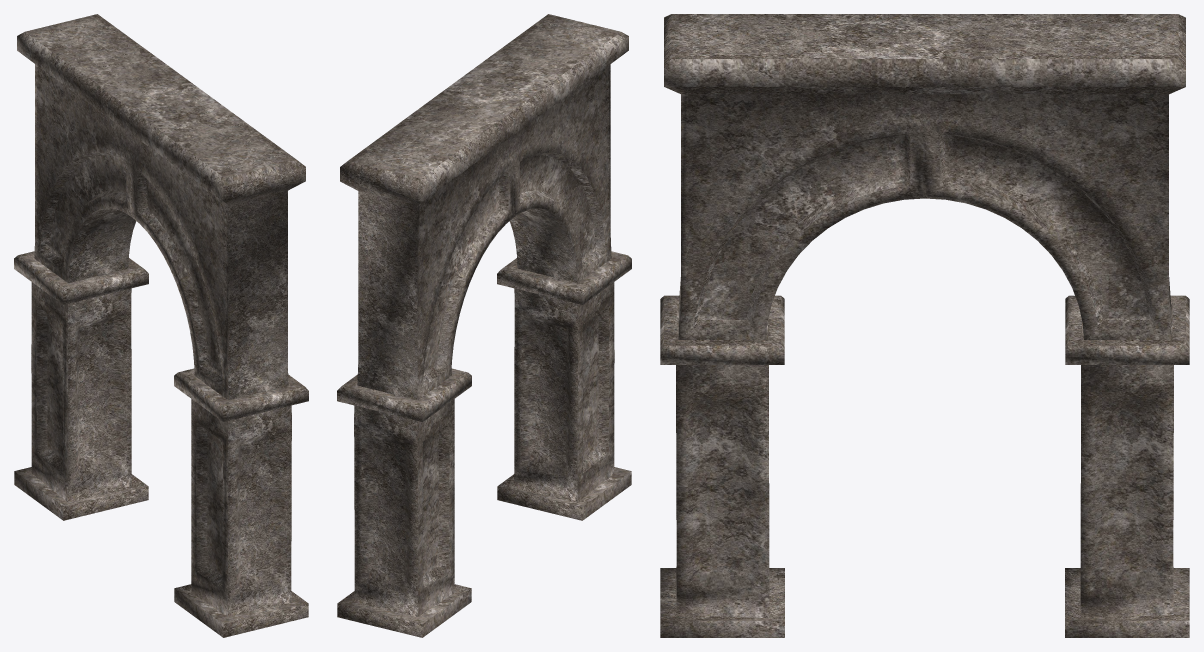
File: Entrance_stone.fbx
The picture shows the model from 3 angles, left to right: view 1: azimuth 30°, elevation 25°; view 2: azimuth 150°, elevation 25°; view 3: azimuth 270°, elevation 25°; orthographic projection. The views are drawn at different scales.
Parts seen in each view (by area): view 1: Entrance_stone; view 2: Entrance_stone; view 3: Entrance_stone.
Boxes of the visible parts, x1,y1,x2,y2 form: Entrance_stone: (14, 14, 308, 637); Entrance_stone: (337, 14, 631, 637); Entrance_stone: (660, 14, 1189, 637).
Size of the model in its own units: 0.6422 by 3.26 by 2.72.
